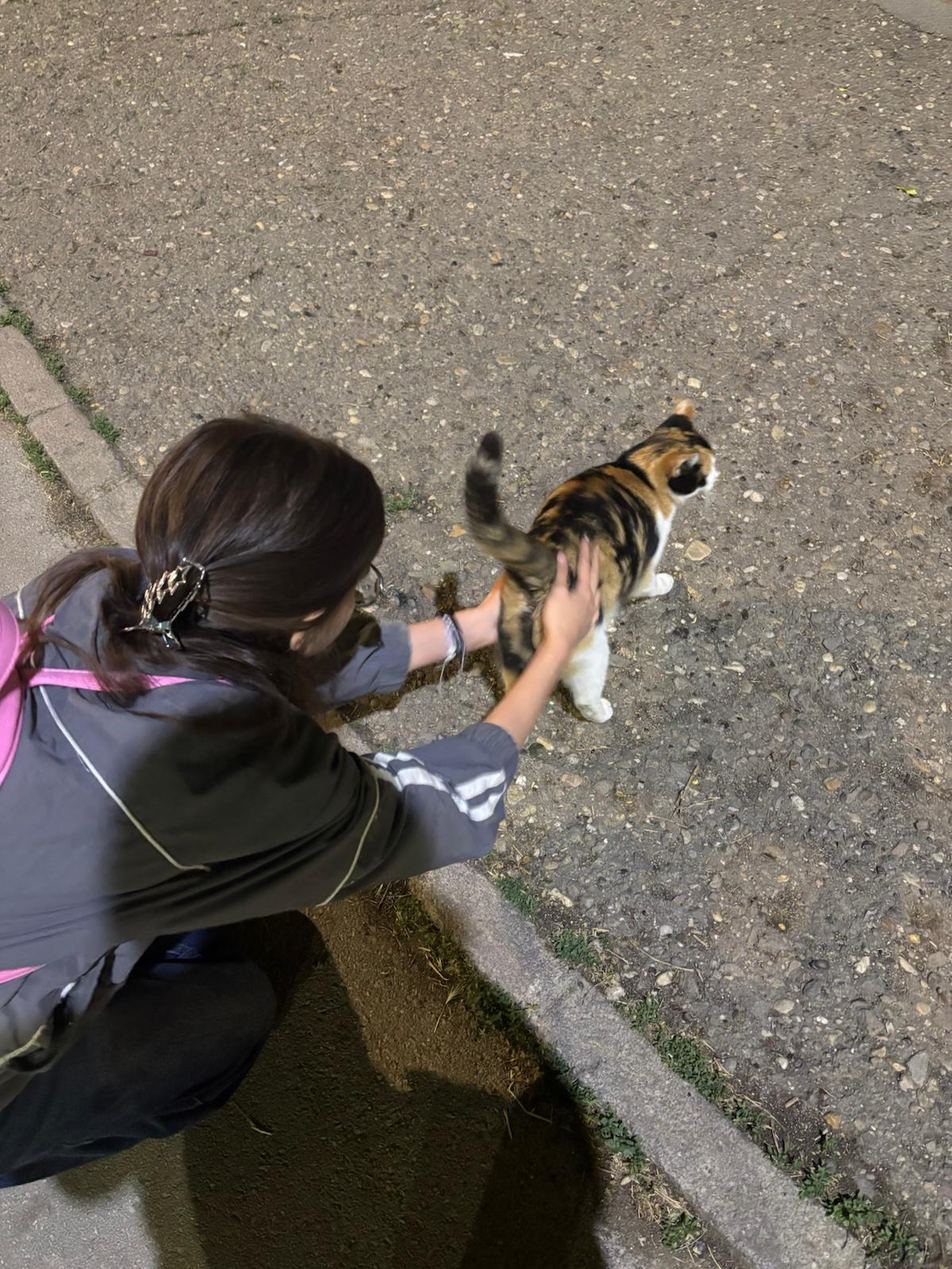macka: (463, 398, 721, 722)
